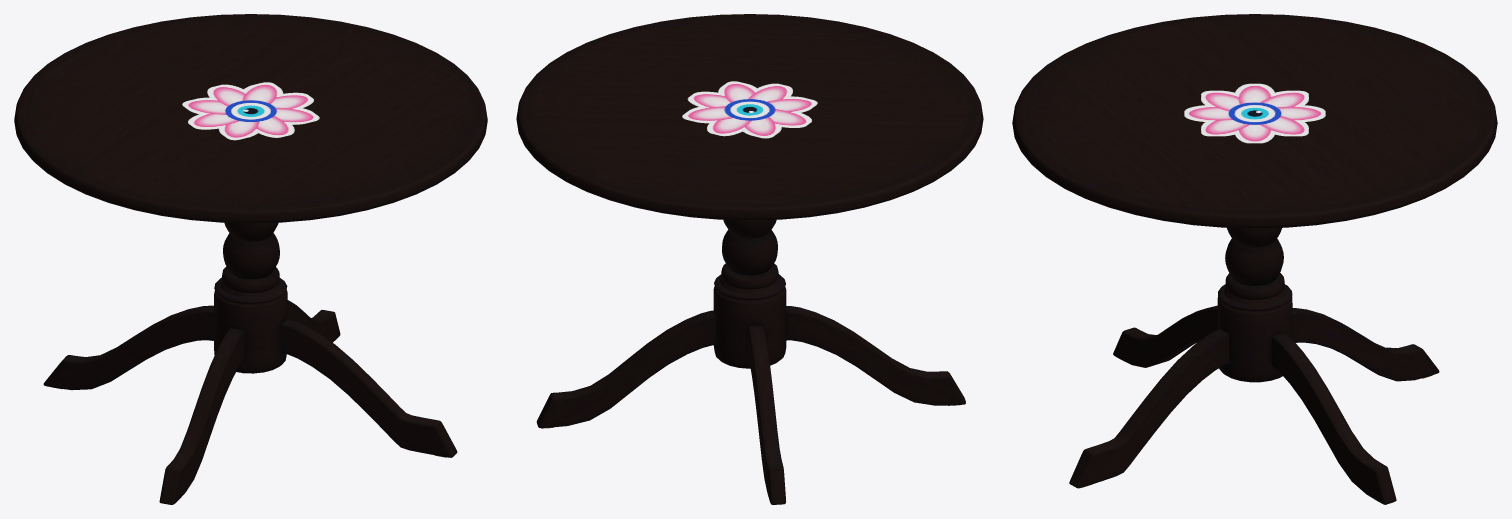
Rendered from nyb_susan_table.glb.
3 renders of one model, left to right at view 1: azimuth 30°, elevation 25°; view 2: azimuth 150°, elevation 25°; view 3: azimuth 270°, elevation 25°, orthographic. The views are drawn at different scales.
Parts seen in each view (by area): view 1: round_wooden_table_01, stk_eyeflower_die.png; view 2: round_wooden_table_01, stk_eyeflower_die.png; view 3: round_wooden_table_01, stk_eyeflower_die.png.
Part boxes in pixels (x1,y1,x2,y2): round_wooden_table_01: (14, 14, 487, 504); stk_eyeflower_die.png: (182, 82, 319, 140); round_wooden_table_01: (516, 14, 983, 504); stk_eyeflower_die.png: (682, 81, 817, 138); round_wooden_table_01: (1012, 14, 1497, 504); stk_eyeflower_die.png: (1184, 83, 1325, 143).
Bounding box in the file's own units: 1.4 × 1.01 × 1.4.
Materials: 2 (2 with a texture image).
